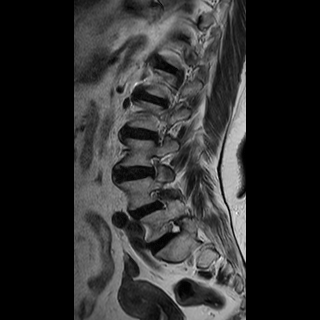LFS1: (143, 151, 169, 185)
